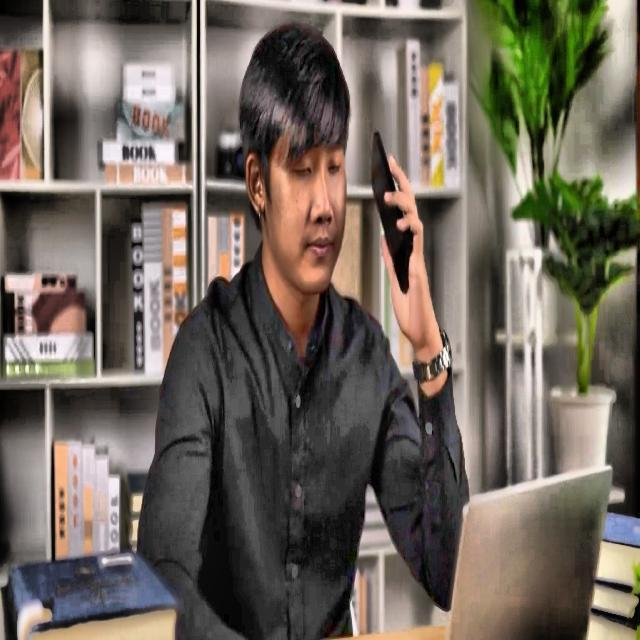Phone: (372, 128, 415, 294)
